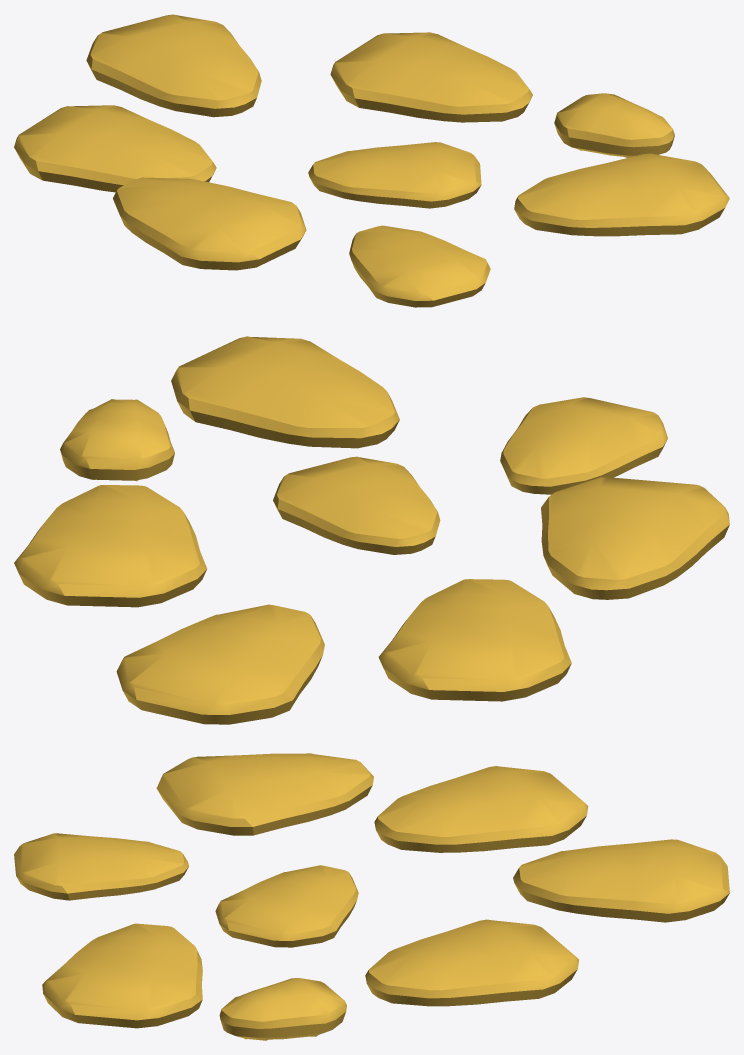
Rendered from Yellow1_seed.fbx.
3 renders of one model, top to bottom at view 1: azimuth 30°, elevation 25°; view 2: azimuth 150°, elevation 25°; view 3: azimuth 270°, elevation 25°, orthographic. The views are drawn at different scales.
Parts seen in each view (by area): view 1: seed1.024, seed1.023, seed1.027, seed1.029, seed1.026, seed1.025, seed1.022, seed1.030; view 2: seed1.024, seed1.029, seed1.027, seed1.026, seed1.023, seed1.025, seed1.022, seed1.030; view 3: seed1.029, seed1.027, seed1.023, seed1.026, seed1.024, seed1.022, seed1.025, seed1.030.
Part boxes in pixels (x1,y1,x2,y2): seed1.024: (514, 153, 729, 236); seed1.023: (330, 32, 532, 122); seed1.027: (113, 177, 306, 270); seed1.029: (86, 14, 261, 117); seed1.026: (14, 105, 216, 192); seed1.025: (308, 142, 481, 208); seed1.022: (349, 225, 490, 307); seed1.030: (554, 93, 674, 157); seed1.024: (171, 336, 399, 448); seed1.029: (116, 604, 324, 724); seed1.027: (541, 477, 729, 599); seed1.026: (378, 579, 571, 701); seed1.023: (14, 485, 207, 607); seed1.025: (273, 456, 440, 554); seed1.022: (500, 397, 667, 494); seed1.030: (60, 399, 174, 481); seed1.029: (513, 839, 729, 922); seed1.027: (156, 753, 373, 835); seed1.023: (365, 919, 578, 1006); seed1.026: (374, 766, 588, 852); seed1.024: (42, 923, 202, 1028); seed1.022: (14, 833, 188, 900); seed1.025: (215, 865, 358, 947); seed1.030: (219, 978, 346, 1040).
Bounding box in the file's own units: 116 × 11.79 × 137.
